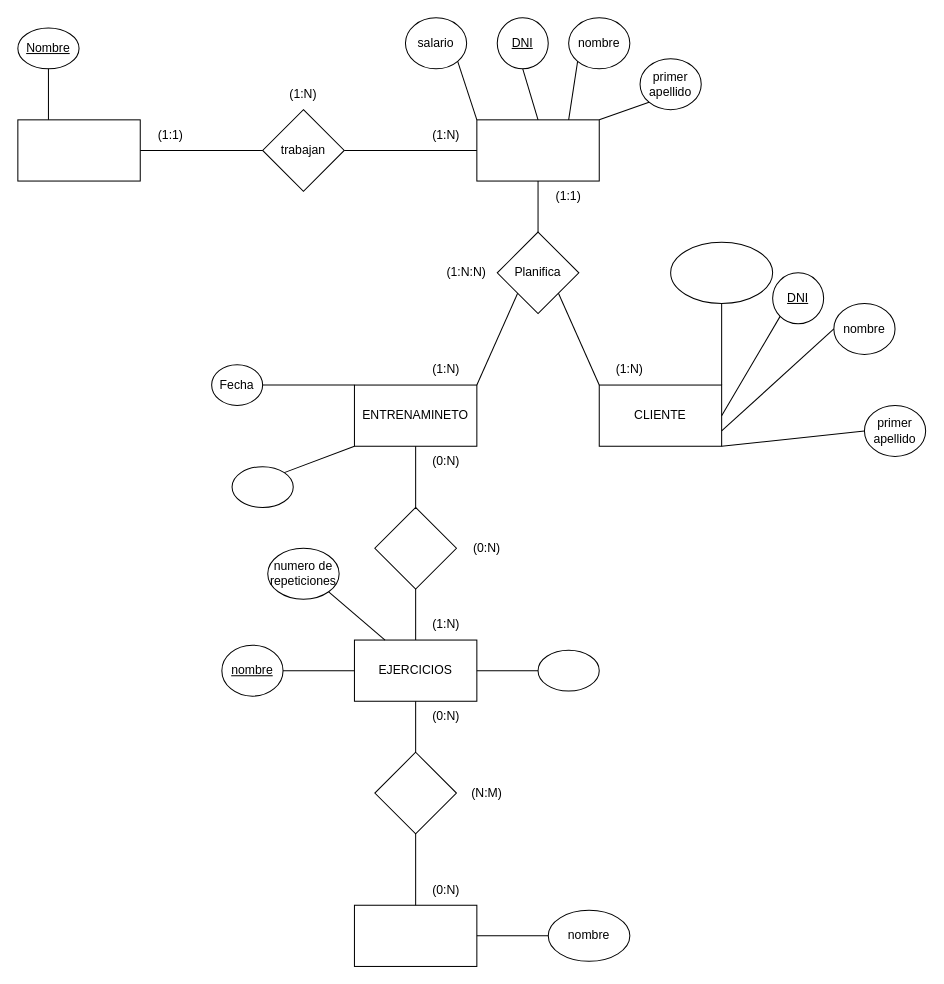
The diagram is 944 pixels wide and 984 high, and some of its shapes have lost their labels. The centre of each missing label's shape, as x and y in pixels:
"Código" belongs at [262,486].
"ENTRENADOR" belongs at [537,150].
"esta formado" belongs at [415,547].
"fecha en que se dió de alta en el gimnasio" belongs at [721,272].
"GYM" belongs at [78,150].
"MATERIAL" belongs at [415,935].
"numero de series" belongs at [568,670].
"utiliza" belongs at [415,792].
